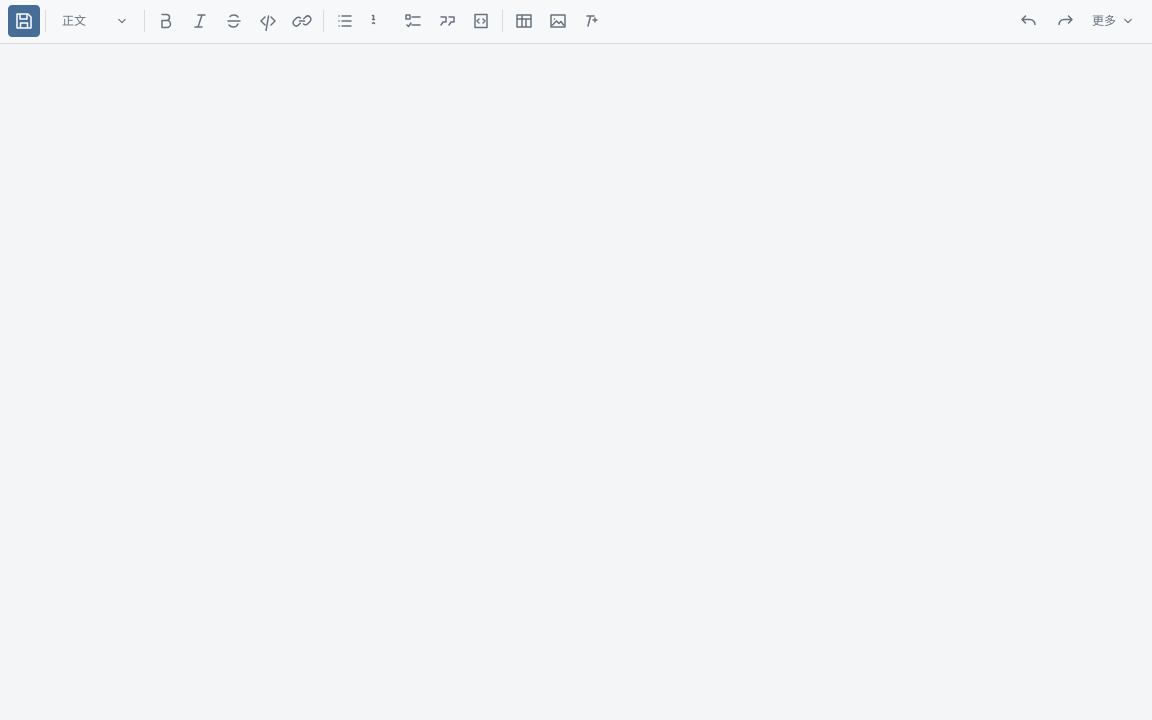
Test case: FormatToolbar tri-state projection › opens the single link panel and applies the entered URL through shared state
The image size is (1152, 720).
Click the button named "插入链接" at point(302, 21), box [286, 5, 318, 37]
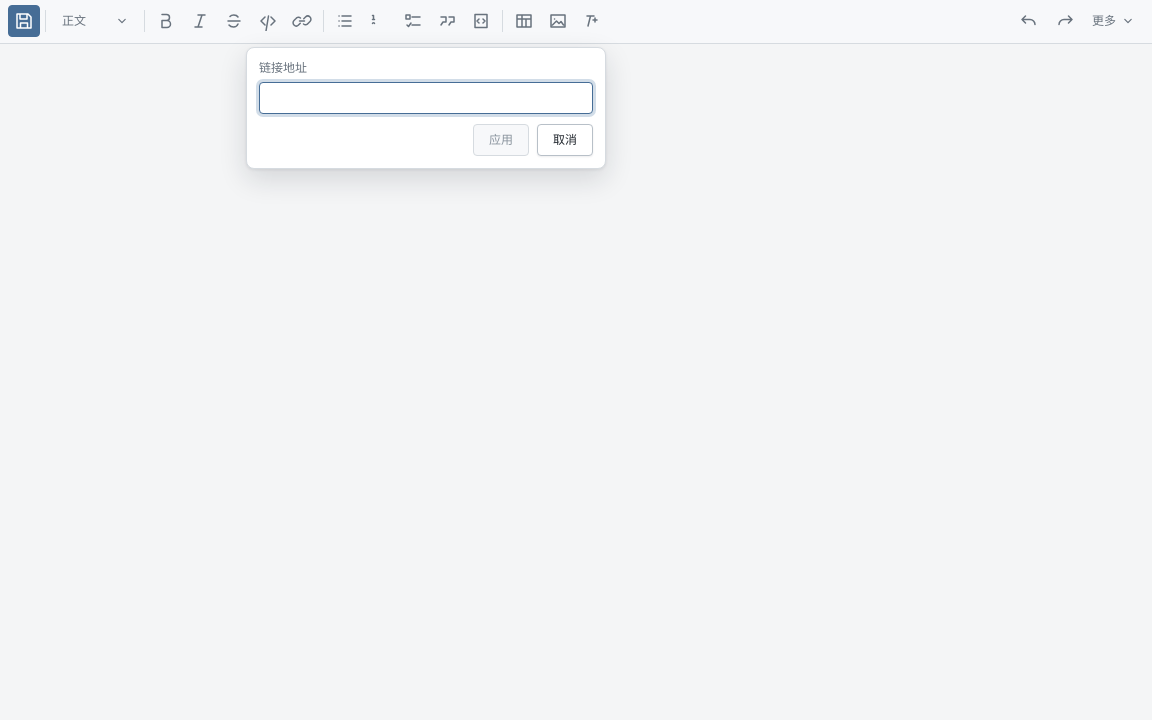
Type "https://example.com" into the field labelled "链接地址" at point(426, 98), box [259, 82, 593, 114]
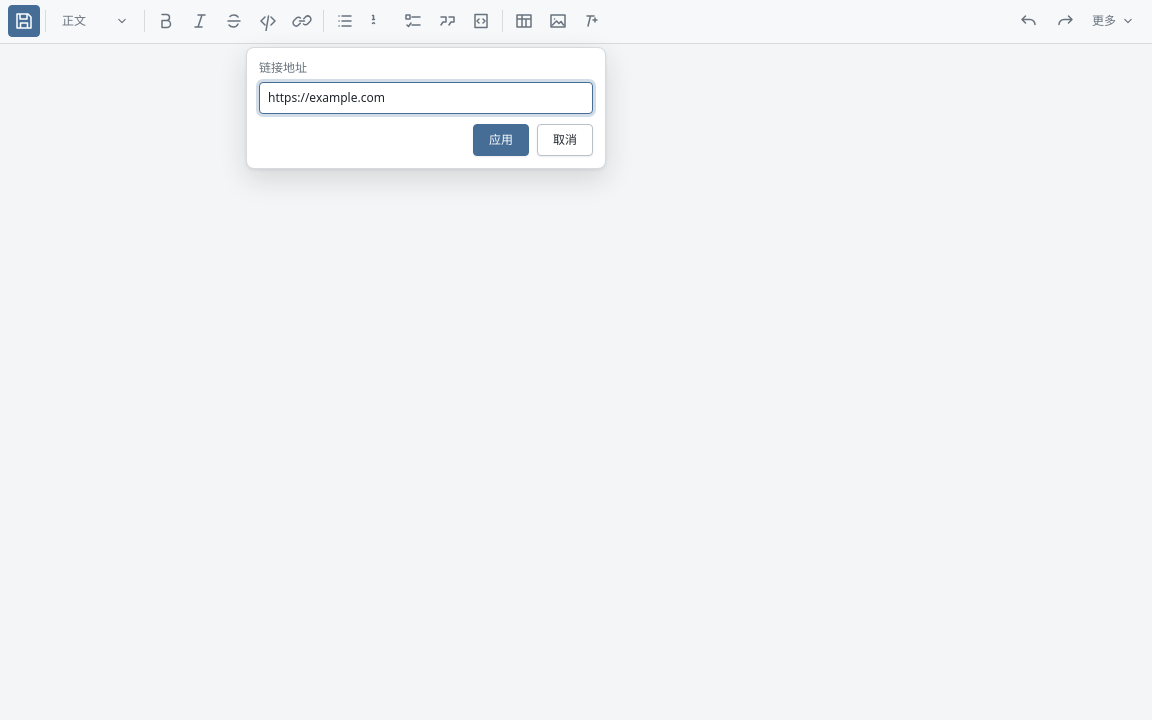
Click the button "应用" at point(501, 140), box [473, 124, 529, 156]
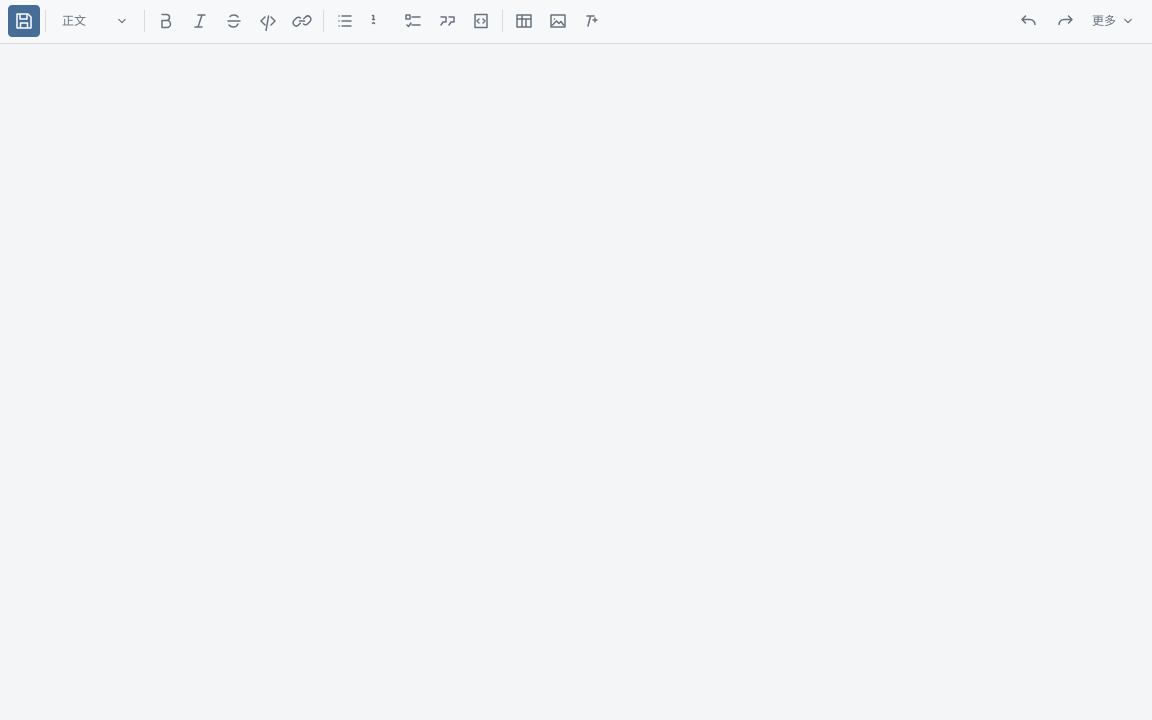
Now the text "链接" is gone
